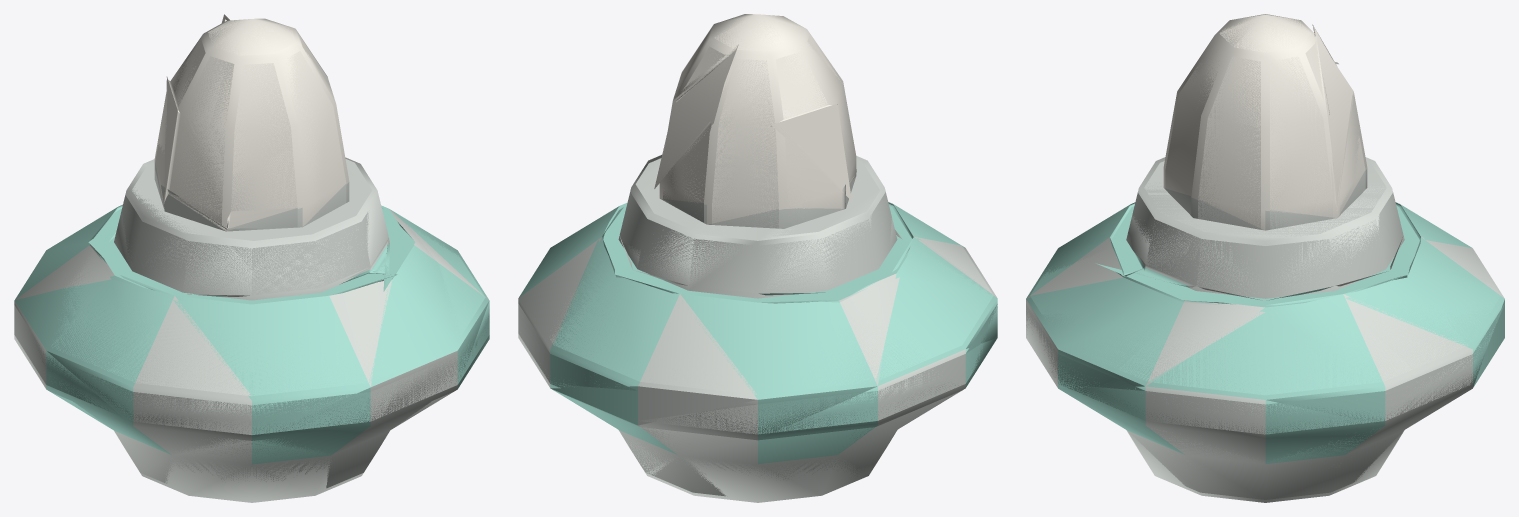
File: tower-defense-kit__enemy-ufo-c.glb
3 views of the same model, side by side, from view 1: azimuth 30°, elevation 25°; view 2: azimuth 150°, elevation 25°; view 3: azimuth 270°, elevation 25° (orthographic).
Parts seen in each view (by area): view 1: L0_metal, L0_accent, L1_metal, L1_accent, L0_ivory, L1_ivory; view 2: L0_metal, L0_accent, L1_metal, L0_ivory, L1_accent, L1_ivory; view 3: L0_metal, L0_accent, L1_accent, L1_metal, L0_ivory, L1_ivory.
Part boxes in pixels (<box>): L0_metal: <box>14,159,483,488</box>; L0_accent: <box>46,204,489,464</box>; L1_metal: <box>14,157,487,502</box>; L1_accent: <box>14,205,489,464</box>; L0_ivory: <box>155,14,346,229</box>; L1_ivory: <box>154,18,349,231</box>; L0_metal: <box>518,158,992,496</box>; L0_accent: <box>550,202,997,463</box>; L1_metal: <box>518,155,996,502</box>; L0_ivory: <box>654,14,856,223</box>; L1_accent: <box>519,202,997,463</box>; L1_ivory: <box>659,14,856,224</box>; L0_metal: <box>1026,160,1500,499</box>; L0_accent: <box>1030,202,1504,463</box>; L1_accent: <box>1026,205,1504,463</box>; L1_metal: <box>1026,157,1504,502</box>; L0_ivory: <box>1165,15,1365,228</box>; L1_ivory: <box>1163,14,1367,230</box>.
Bounding box in the file's own units: 1 × 1 × 1.
